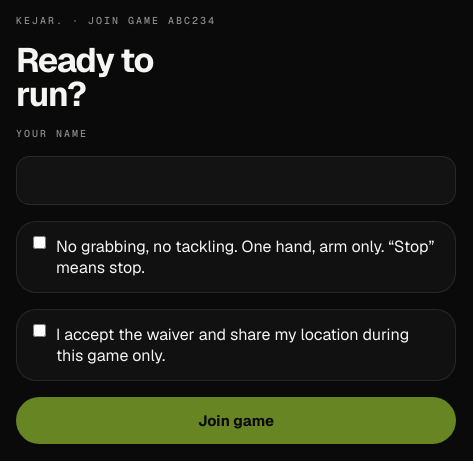
Test case: Join › keeps the button disabled until both checkboxes are ticked
This screenshot has width=473, height=461.
Type "Aina" into the field labelled "Your name" at (236, 180), box [16,156,456,205]
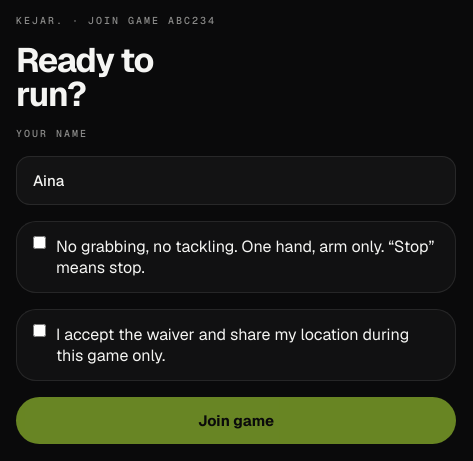
expect the button "Join game" is disabled: met, box [16,397,456,444]
Click the checkbox labelled "No grabbing" at (40, 242), box [33,236,46,249]
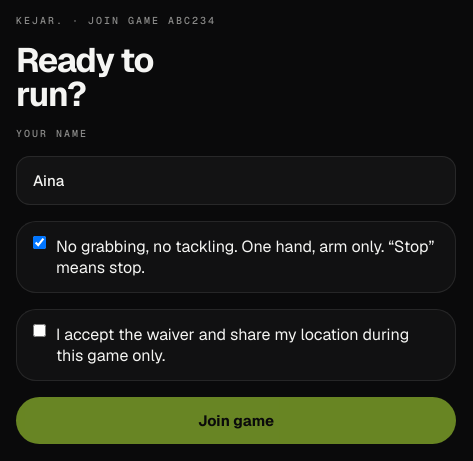
expect the button "Join game" is disabled: met, box [16,397,456,444]
Click the checkbox labelled "waiver" at (40, 330), box [33,324,46,337]
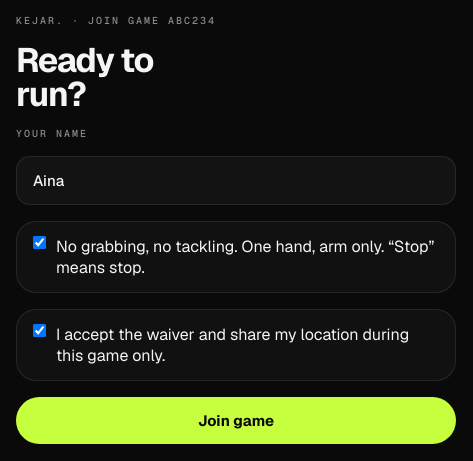
expect the button "Join game" is enabled: met, box [16,397,456,444]
